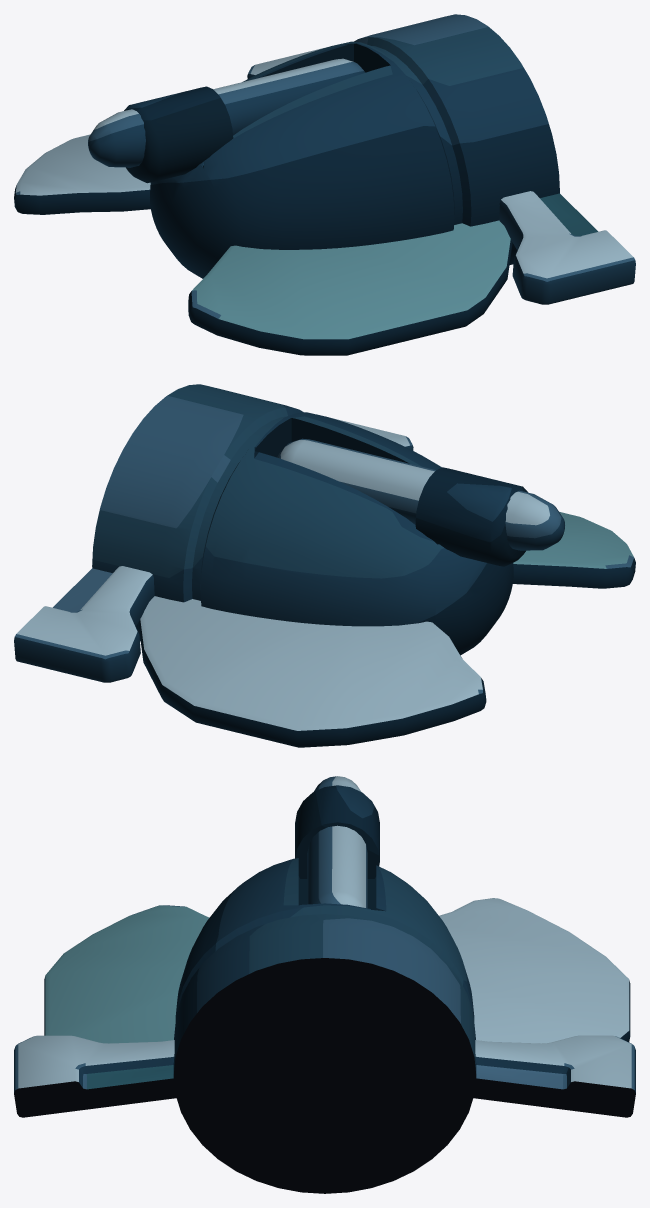
The model's file is cruiser_nose_l.glb.
3 renders of one model, top to bottom at view 1: azimuth 30°, elevation 25°; view 2: azimuth 150°, elevation 25°; view 3: azimuth 270°, elevation 25°, orthographic. The views are drawn at different scales.
Visible parts, largest first — view 1: cruiser_nose_l; view 2: cruiser_nose_l; view 3: cruiser_nose_l.
Part boxes in pixels (bbox=[...]): cruiser_nose_l: bbox=[14, 14, 635, 355]; cruiser_nose_l: bbox=[14, 384, 635, 747]; cruiser_nose_l: bbox=[14, 776, 635, 1193].
Size of the model in its own units: 19 by 10.39 by 24.82.
